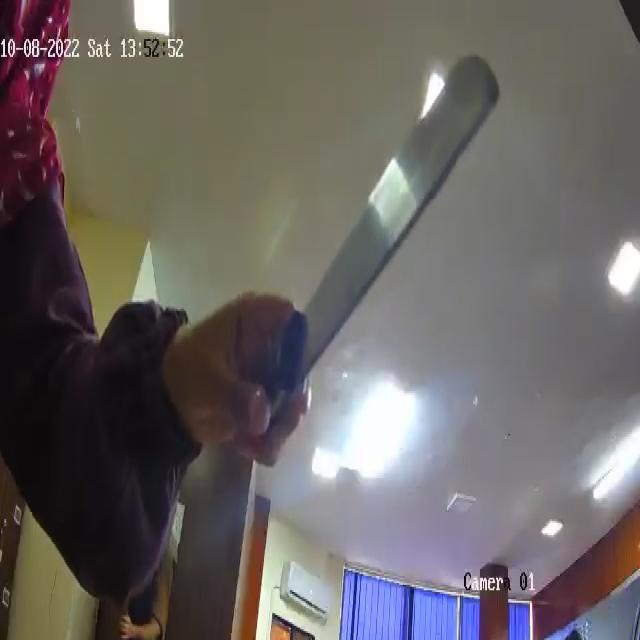weapon: (246, 42, 500, 450)
